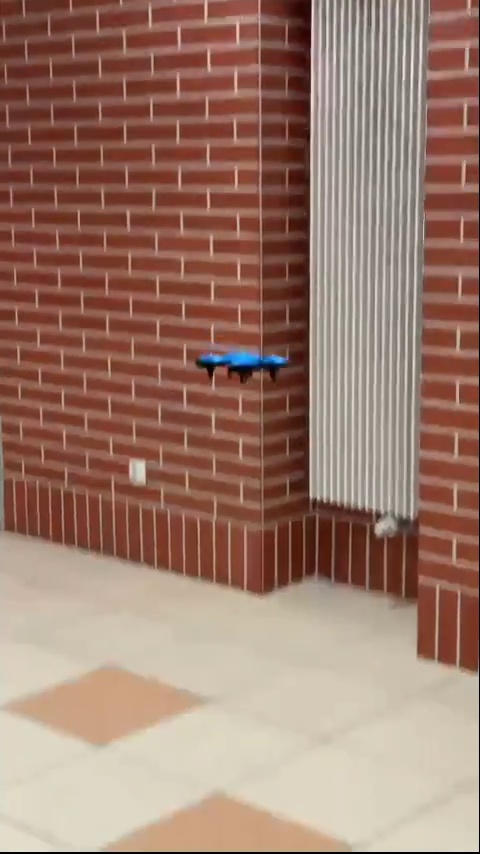drone: (196, 346, 287, 390)
